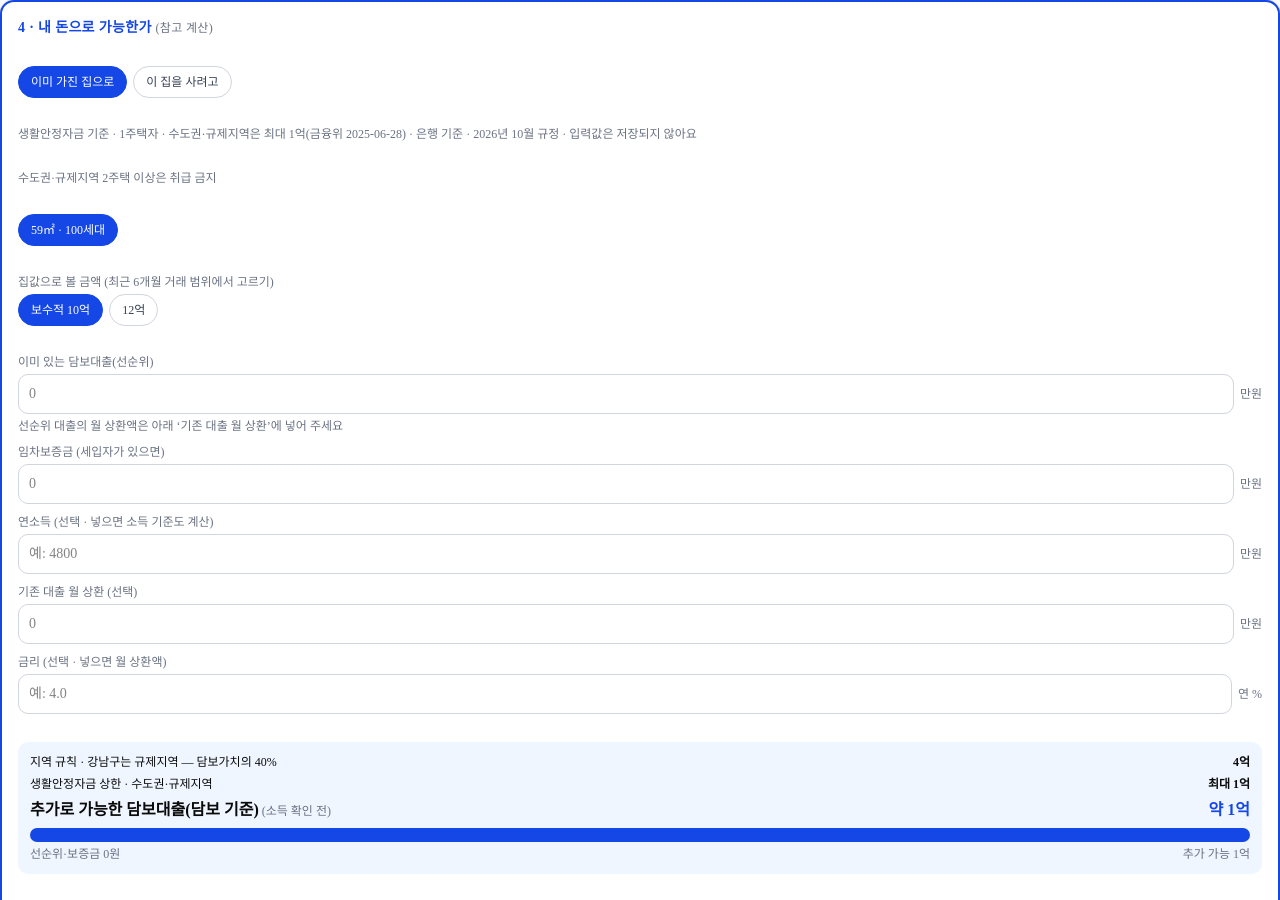
Test: LoanEstimateSection — 이 집을 사려고 › 규제 문구에 가격별 상한 포함 · 수도권 6억 표기 · 1억 상한 없음
Click the button "이 집을 사려고".
click(182, 82)  # box [133, 66, 232, 98]
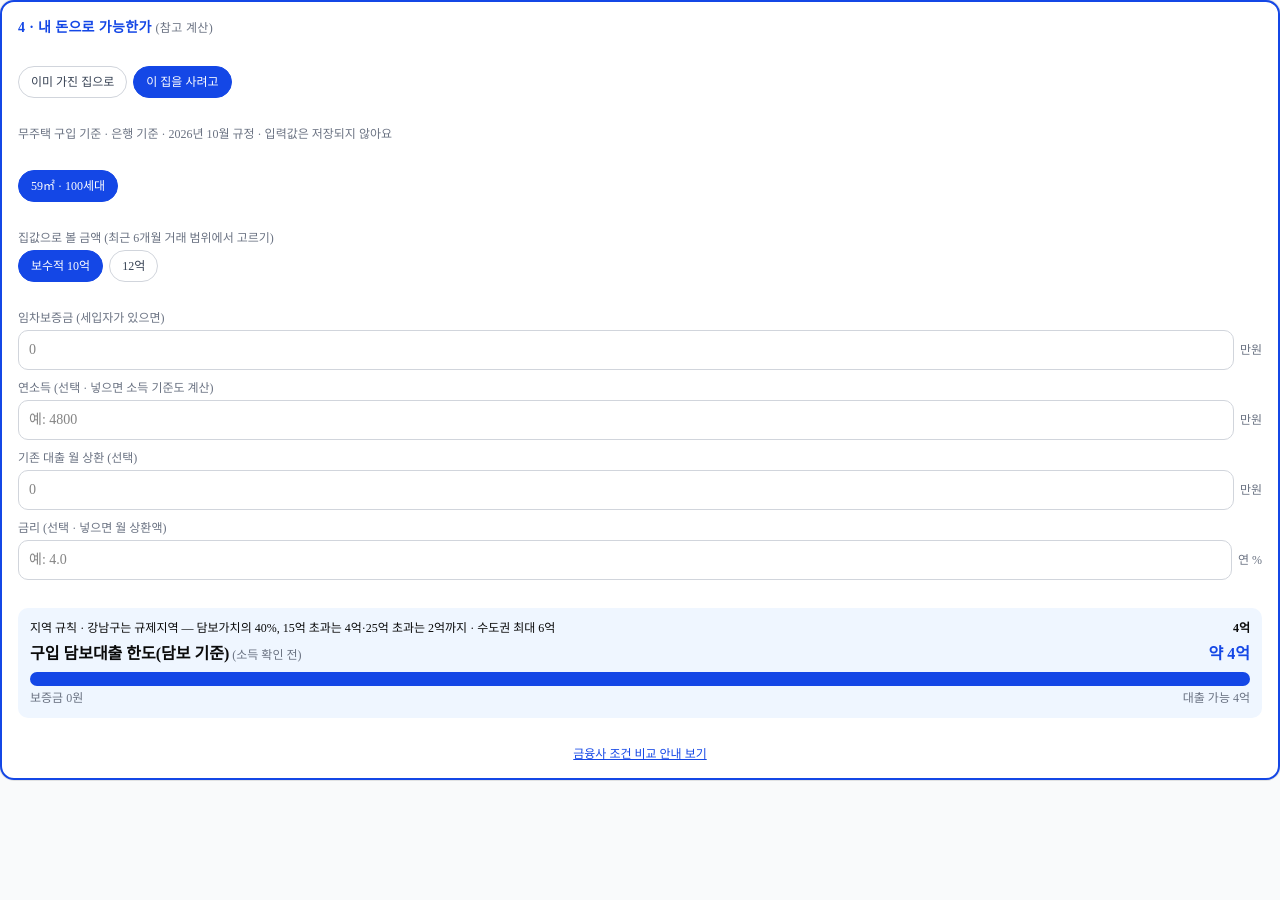
Now the element with test id "consumer-loan-result" shows "강남구는 규제지역 — 담보가치의 40%, 15억 초과는 4억·25억 초과는 2억까지 · 수도권 최대 6억", box [30, 621, 555, 635]
Now the element with test id "consumer-loan-result" shows "약 4억", box [1208, 645, 1250, 662]
Now the text with test id "consumer-loan-result" no longer shows "생활안정자금 상한"
